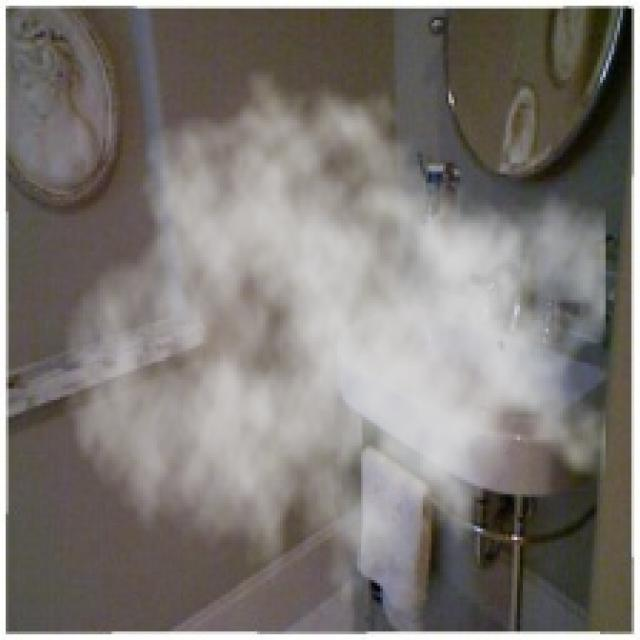smoke: (63, 66, 606, 631)
